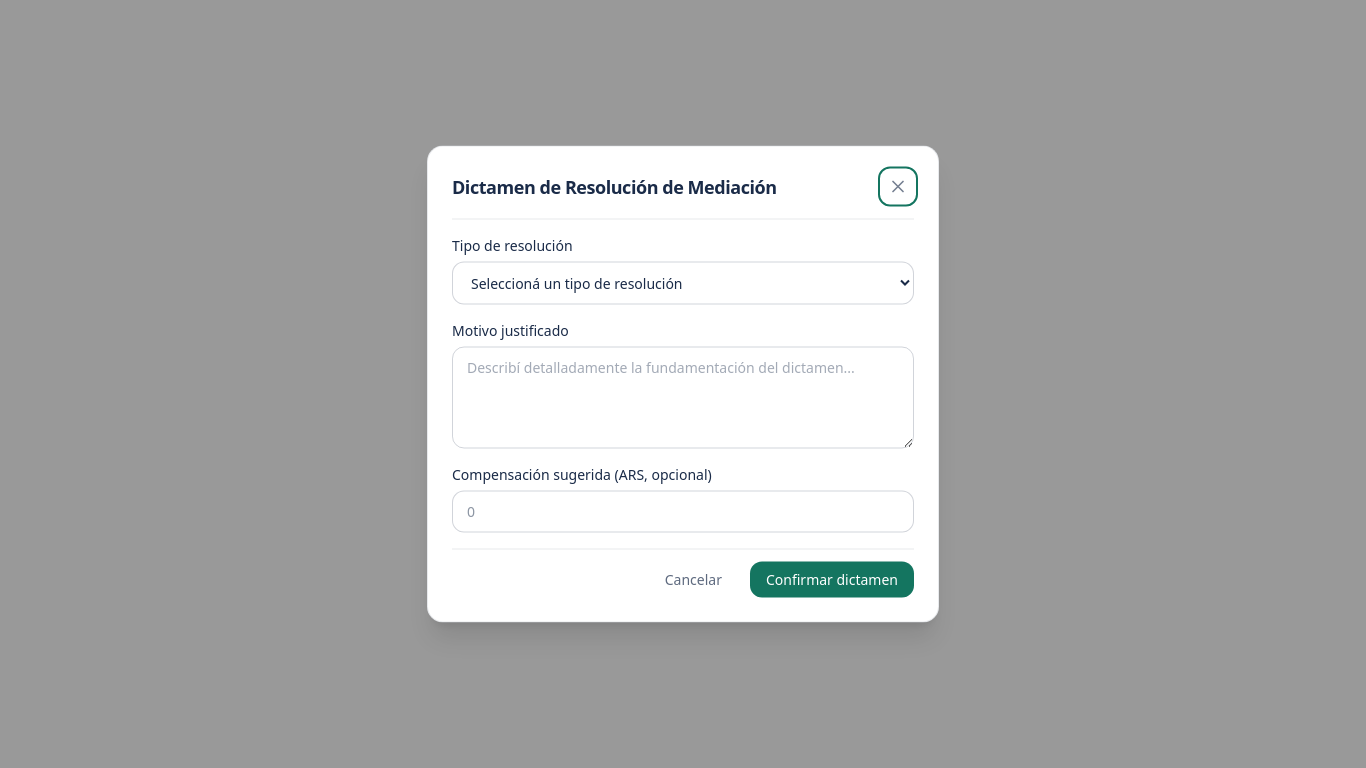
Scenario: ClaimResolutionModal › clears validation error when user begins typing in reason field
Click the button "Confirmar dictamen" at coordinates (832, 580), box [750,562,914,598]
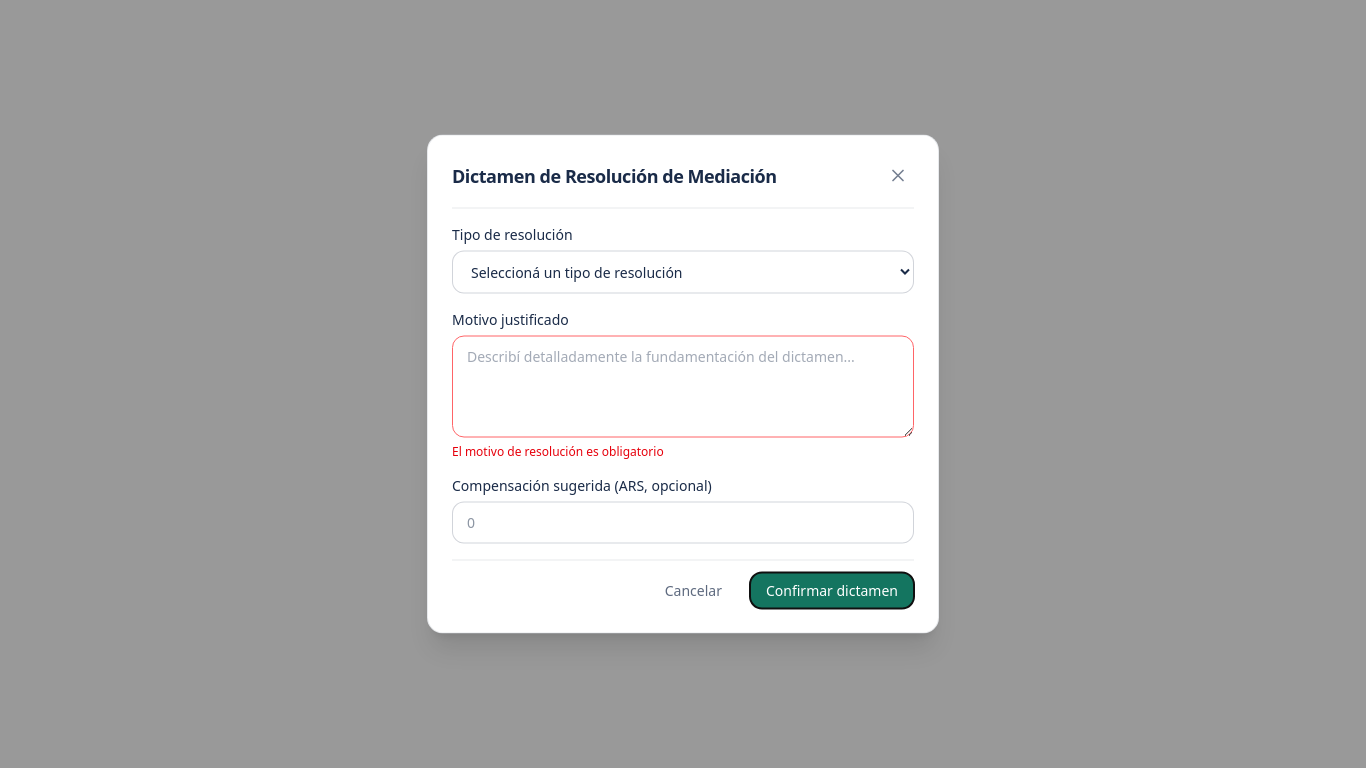
Now the message reads "El motivo de resolución es obligatorio", box [452,442,664,460]
Type "Se llegó a un acuerdo" into the text box labelled "Motivo justificado" at coordinates (683, 386), box [452,336,914,438]
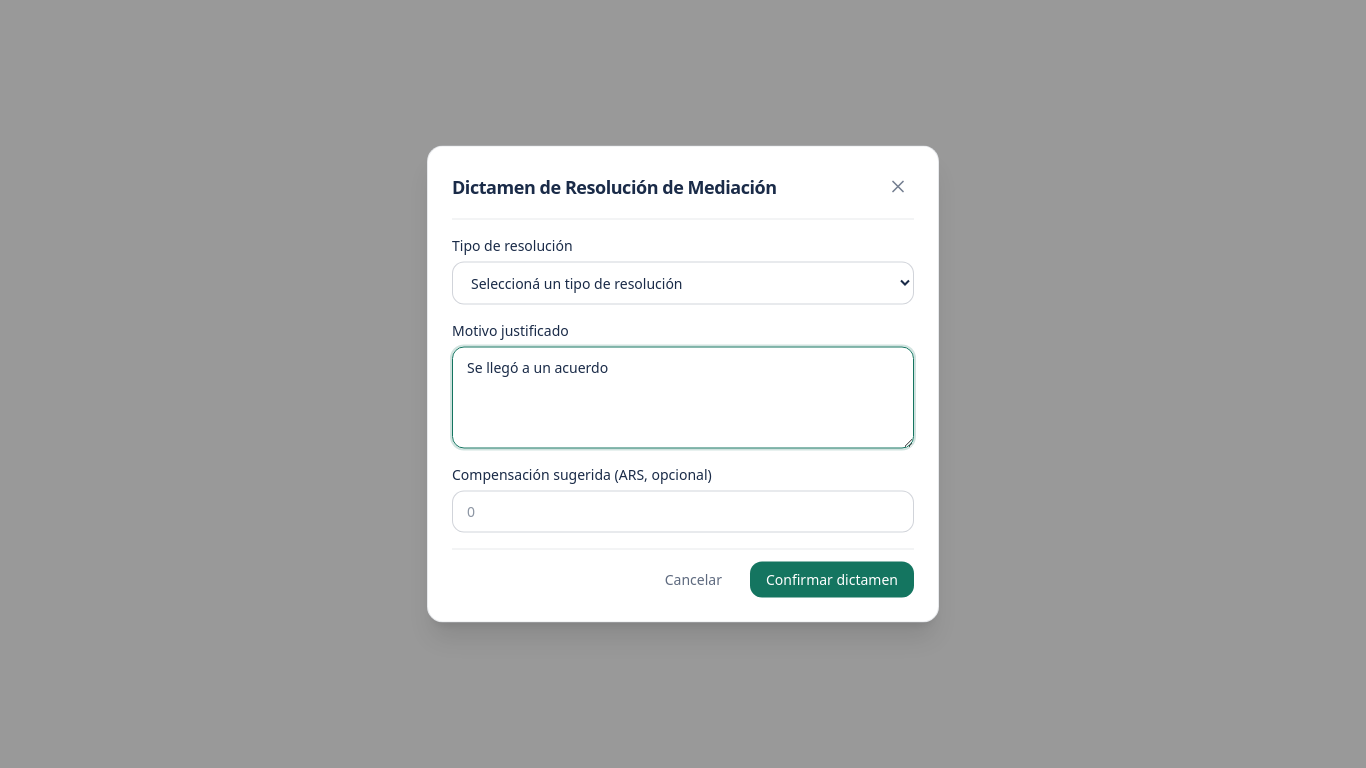
Now the message "El motivo de resolución es obligatorio" is gone
